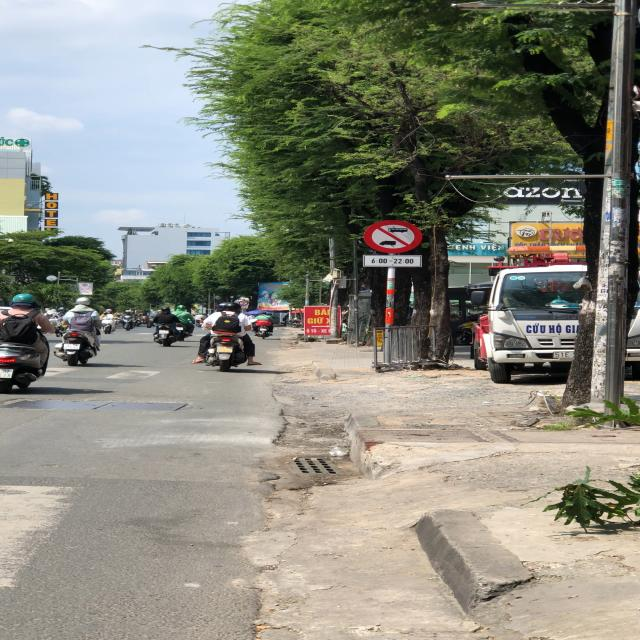Bien bao cam xe oto khach va xe oto tai: (358, 218, 429, 254)
